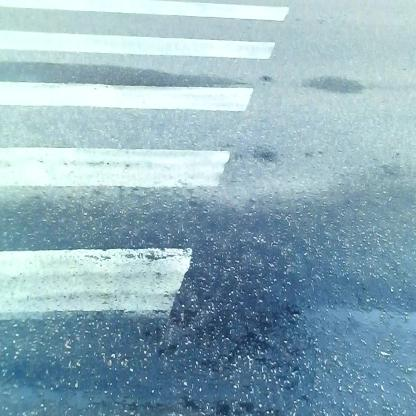crosswalk: (1, 6, 298, 339)
